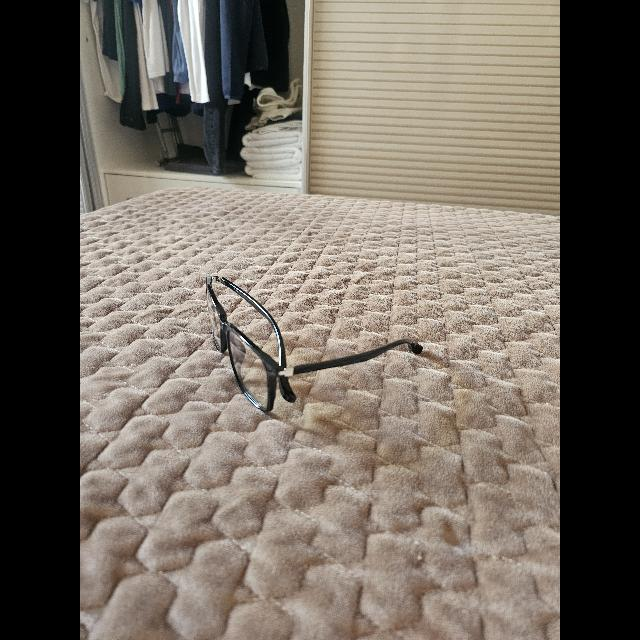glasses: (206, 276, 422, 412)
